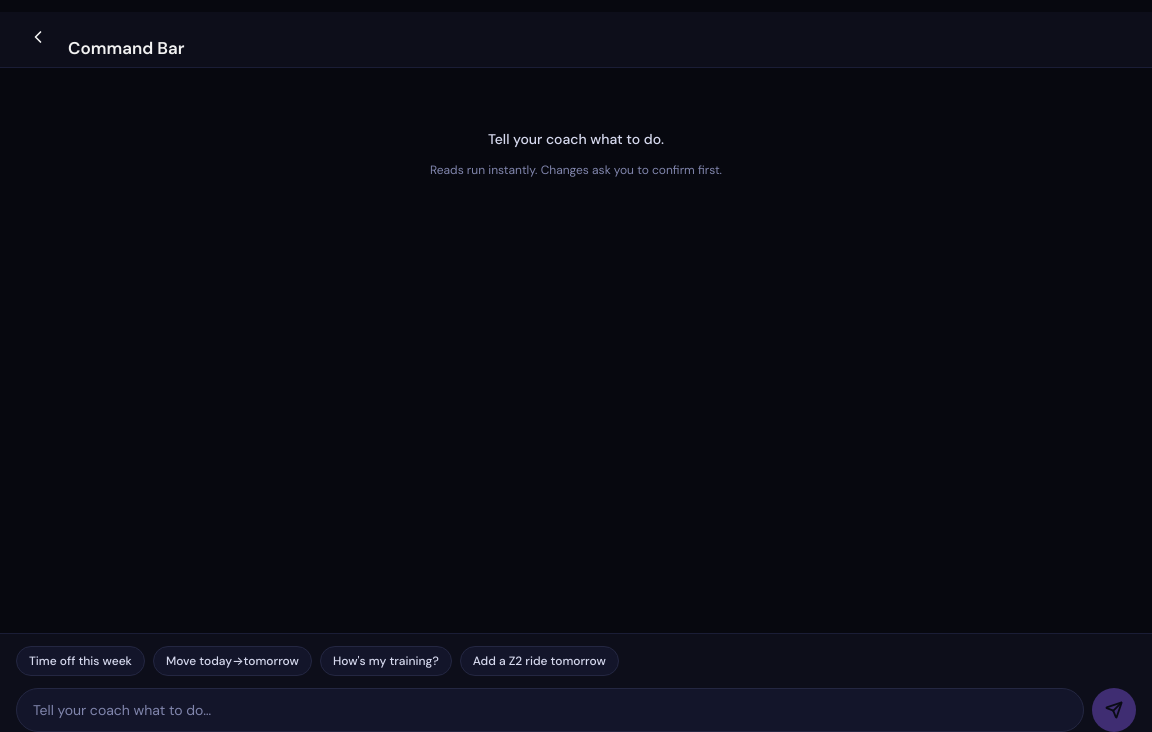
Test: CoachingChat (command bar) › confirming a write executes the actions and shows the result
What coordinates should you click on to do the following:
click the button "Time off this week"
I would click on:
 (80, 661)
Its box is [16,646,145,676].
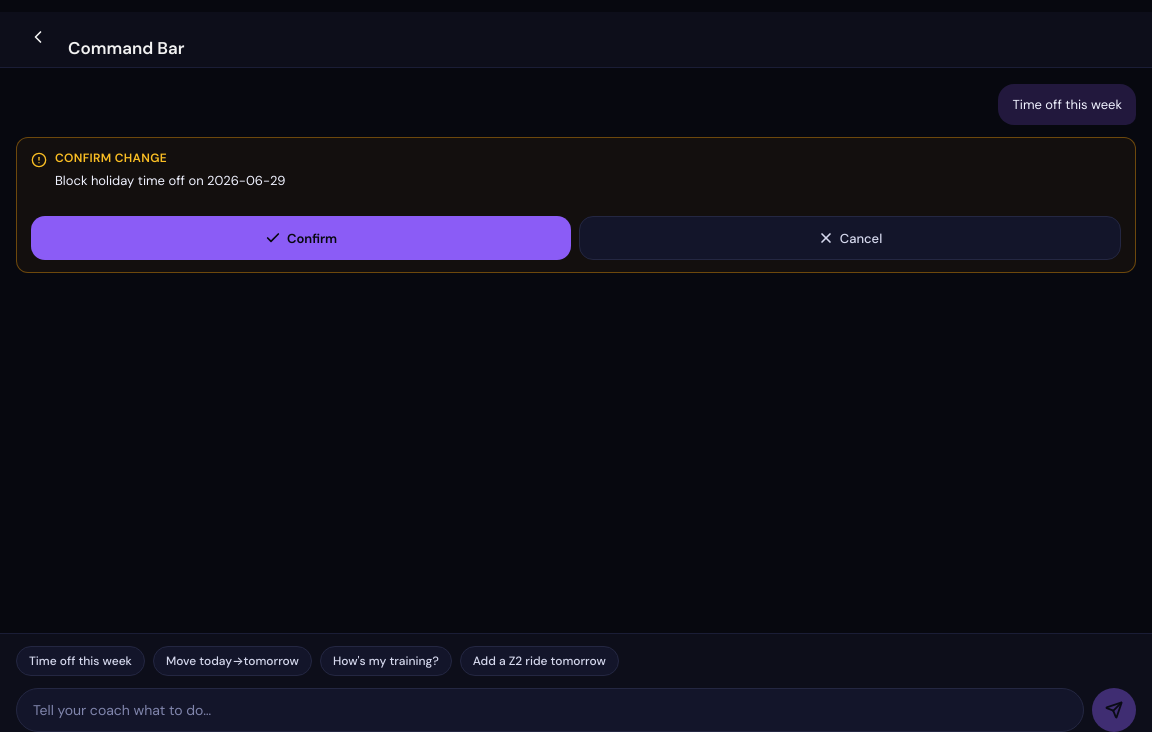
Expected: the button with test id "confirm-btn" is shown
What coordinates should you click on to do the following:
click the button with test id "confirm-btn"
I would click on:
 (301, 238)
Its box is [31,216,571,260].
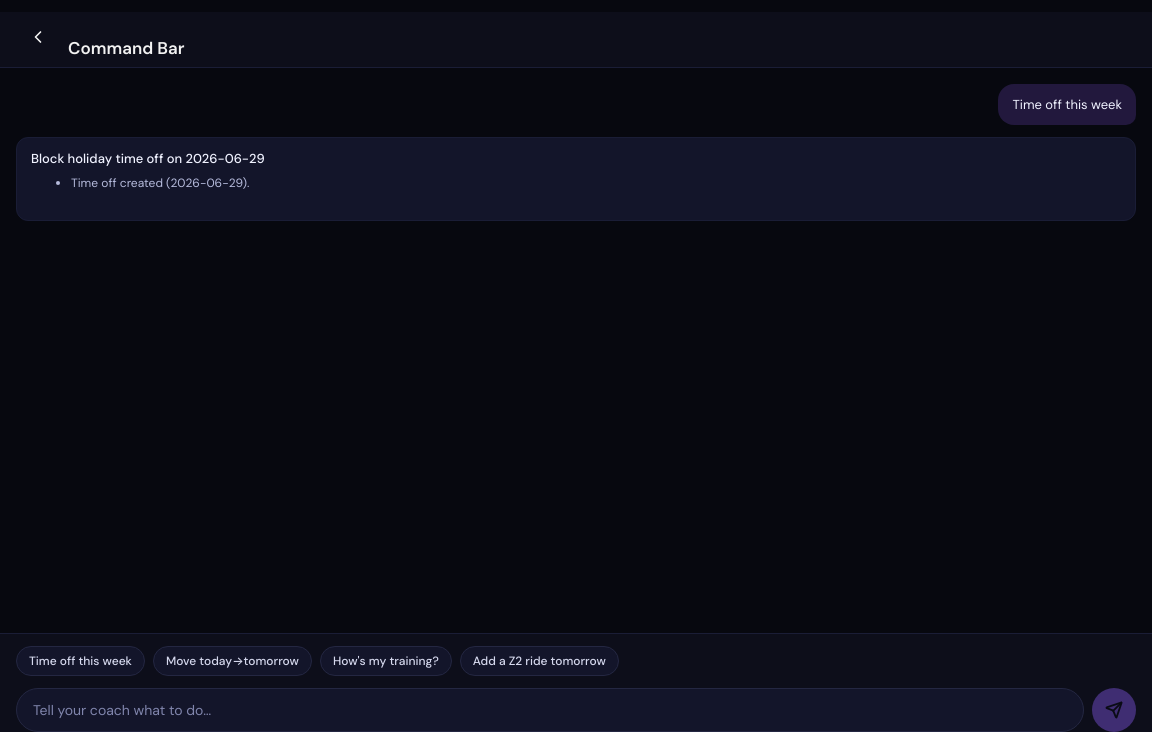
Expected: the list item "Time off created (2026-06-29)." is shown, [71,175,249,191]
